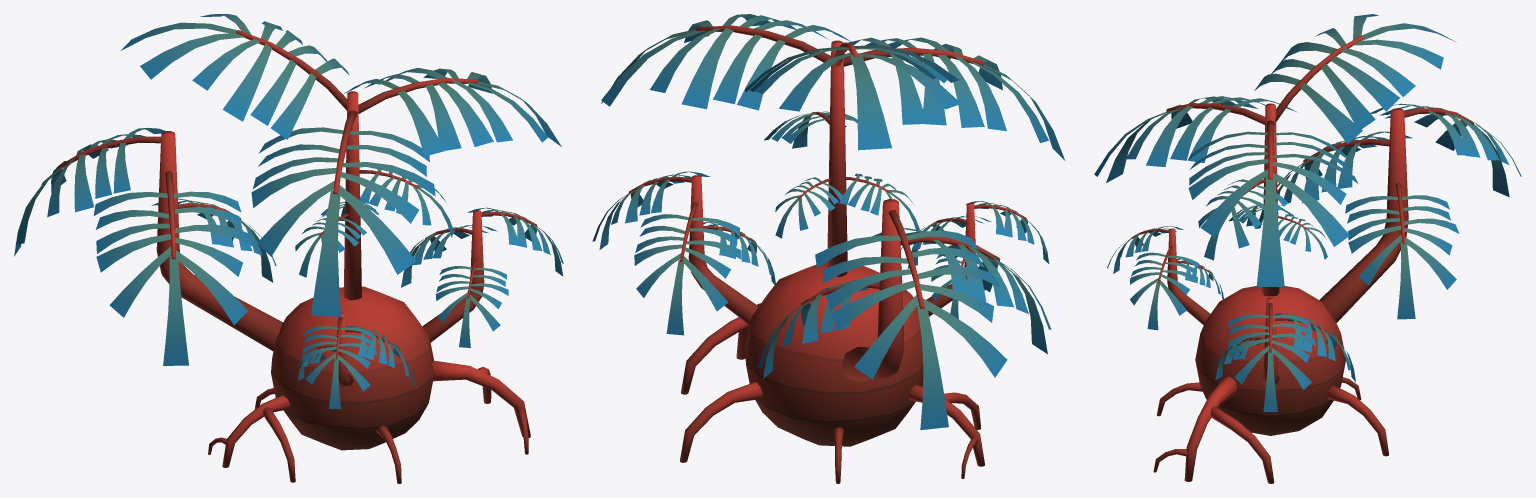
Rendered from anp_tree_9.fbx.
The picture shows the model from 3 angles, left to right: view 1: azimuth 30°, elevation 25°; view 2: azimuth 150°, elevation 25°; view 3: azimuth 270°, elevation 25°; orthographic projection. The views are drawn at different scales.
Parts seen in each view (by area): view 1: t9; view 2: t9; view 3: t9.
Boxes of the visible parts, x1,y1,x2,y2 form: t9: [14, 14, 563, 483]; t9: [592, 14, 1065, 483]; t9: [1094, 14, 1521, 483].
Size of the model in its own units: 726 by 611 by 652.
